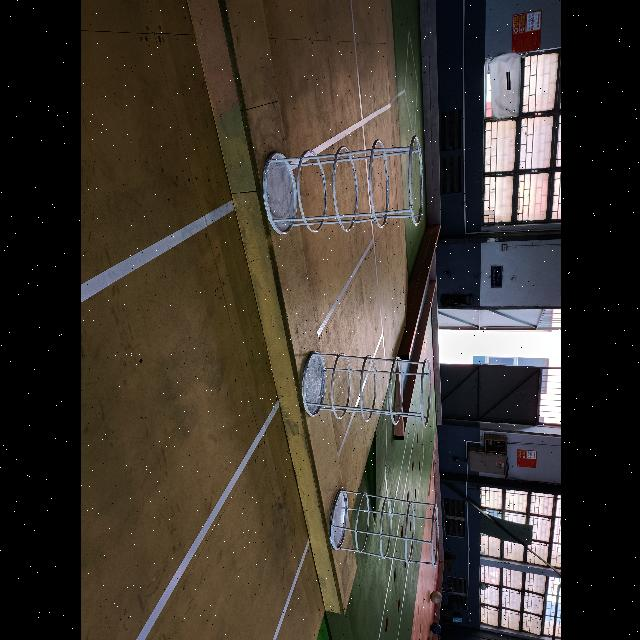S: (259, 136, 424, 234), (299, 352, 431, 427), (330, 489, 438, 567)
